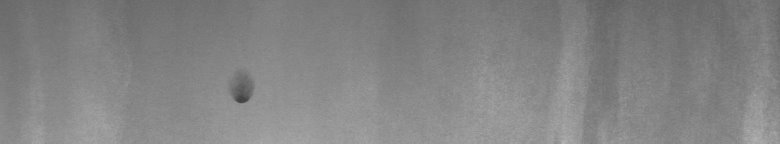fi: (228, 77, 256, 112)
